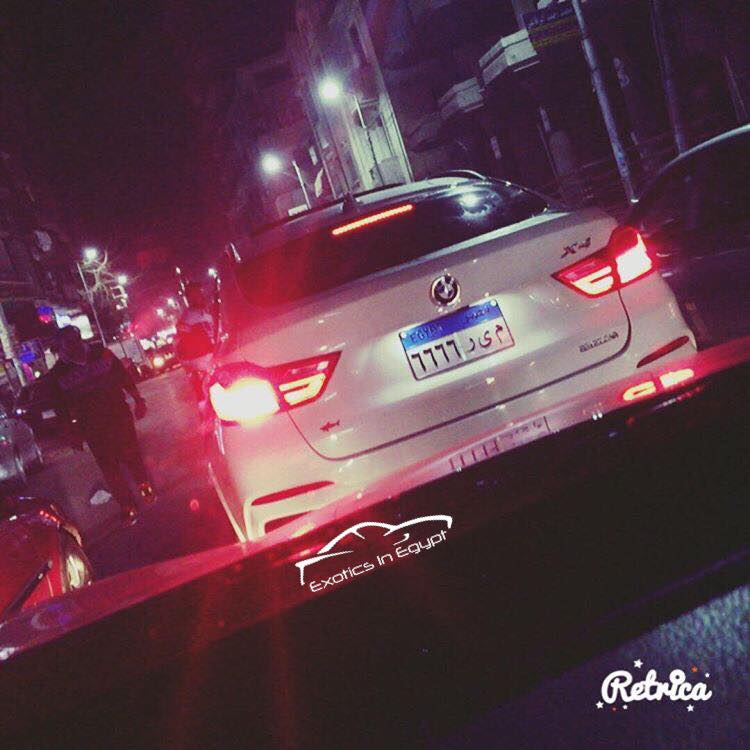carpl: (402, 313, 519, 376)
